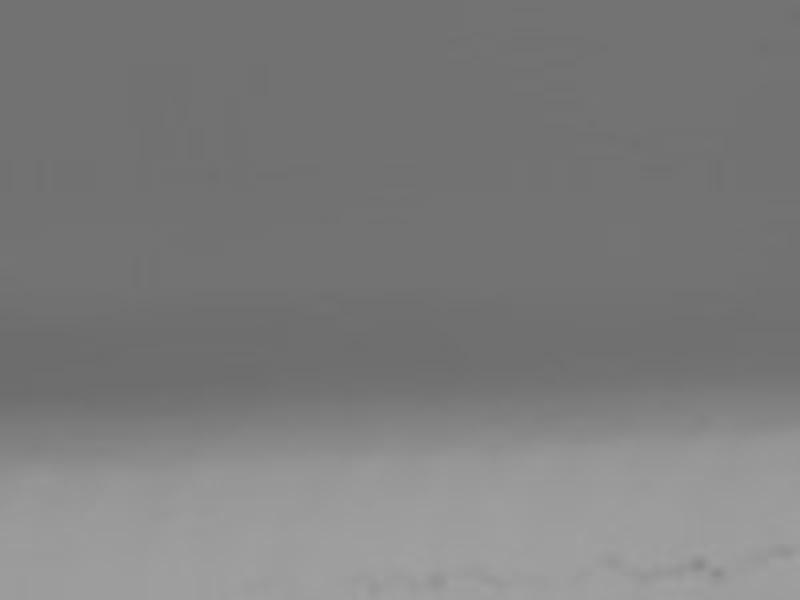defect: (633, 562, 685, 589), (349, 568, 385, 599), (471, 567, 513, 592), (392, 565, 422, 597), (424, 569, 455, 599), (771, 535, 799, 562), (705, 559, 726, 585), (603, 549, 624, 570), (687, 551, 708, 571)
